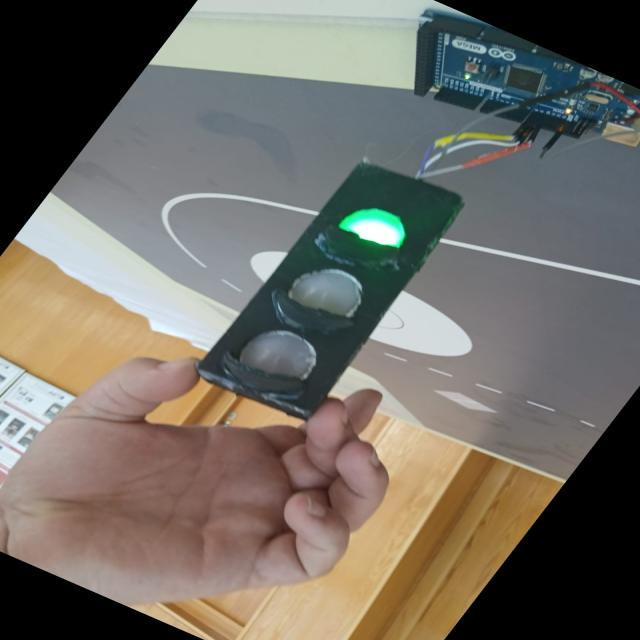green: (338, 208, 405, 248)
trafic lights: (197, 160, 463, 420)
